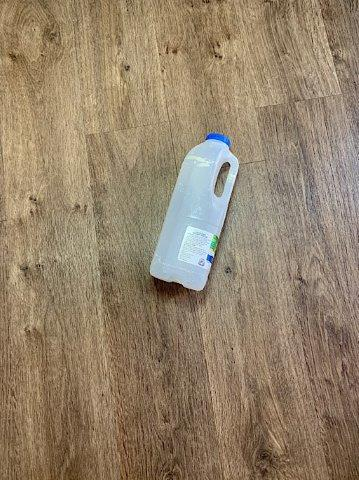botolplastik: (151, 135, 238, 288)
